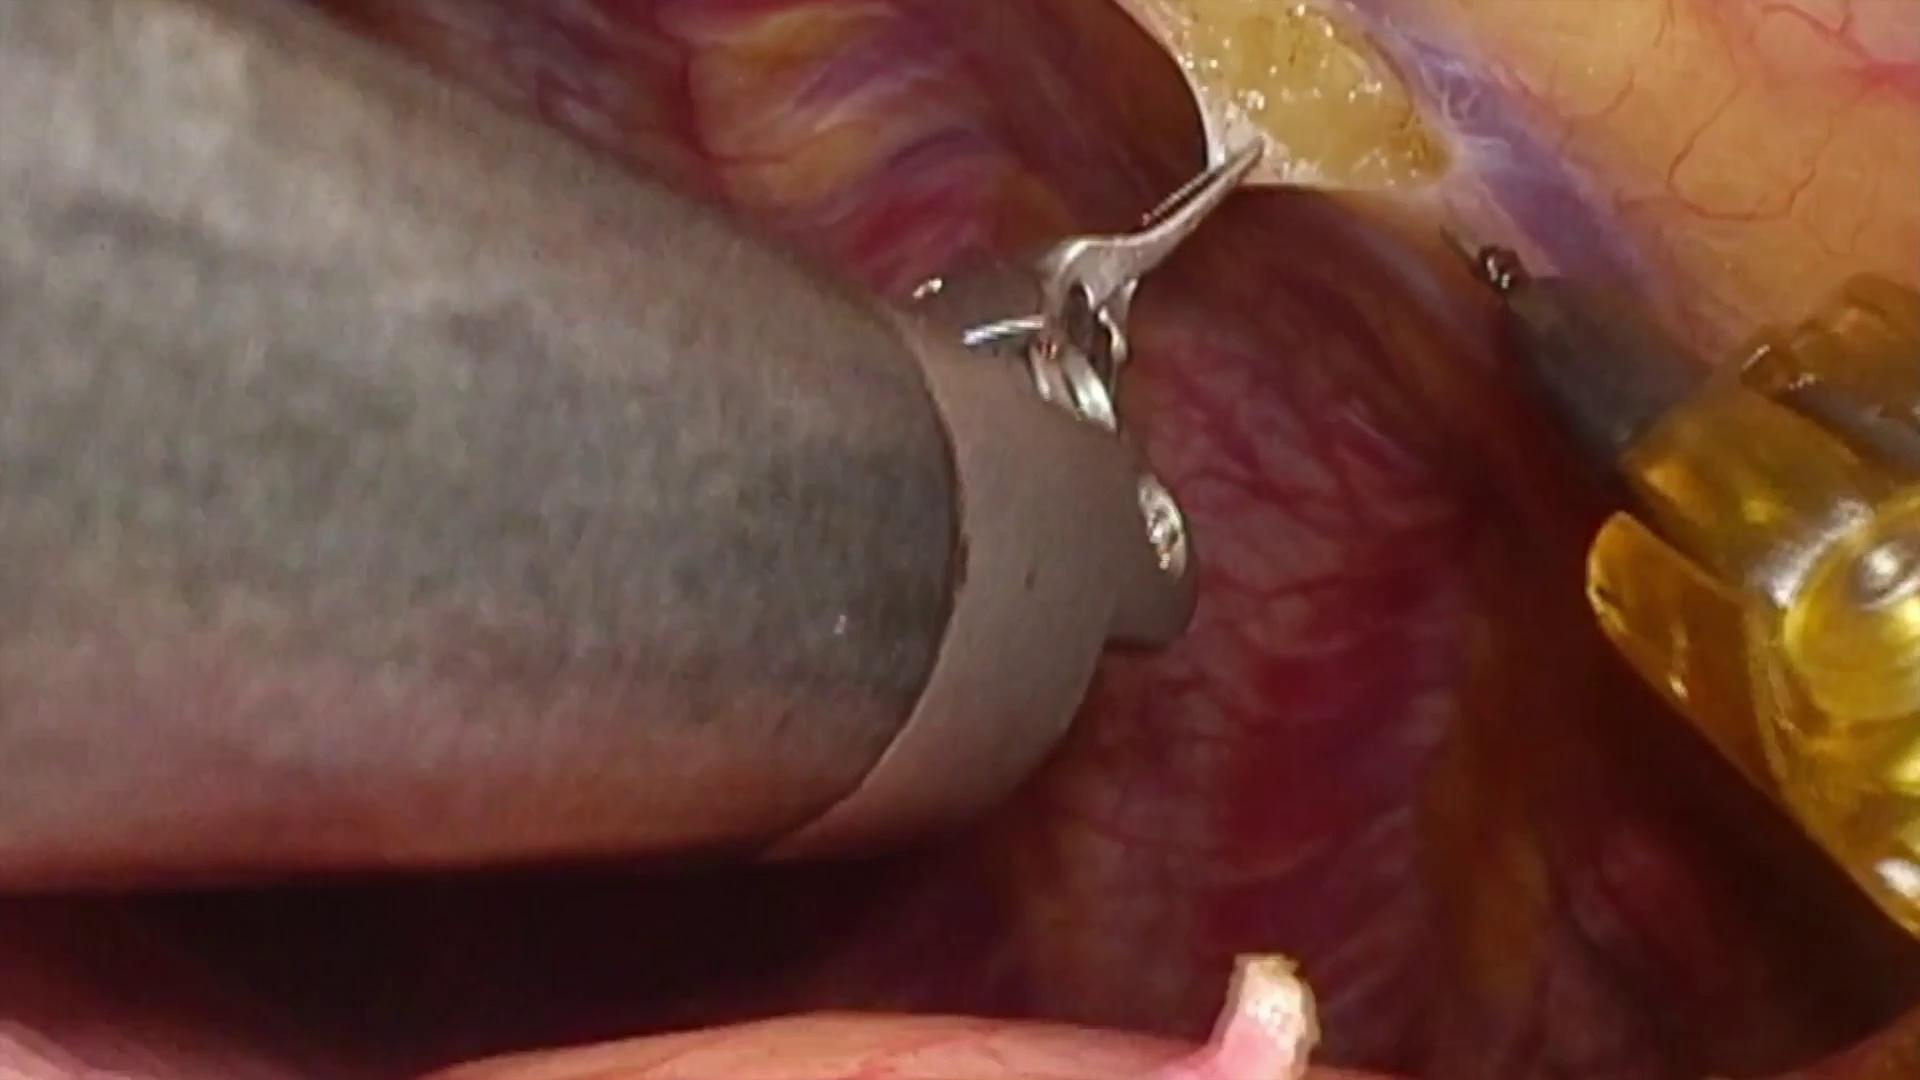Cautery_Spatula: (1432, 207, 1722, 455)
Debakey: (1015, 136, 1276, 345)
